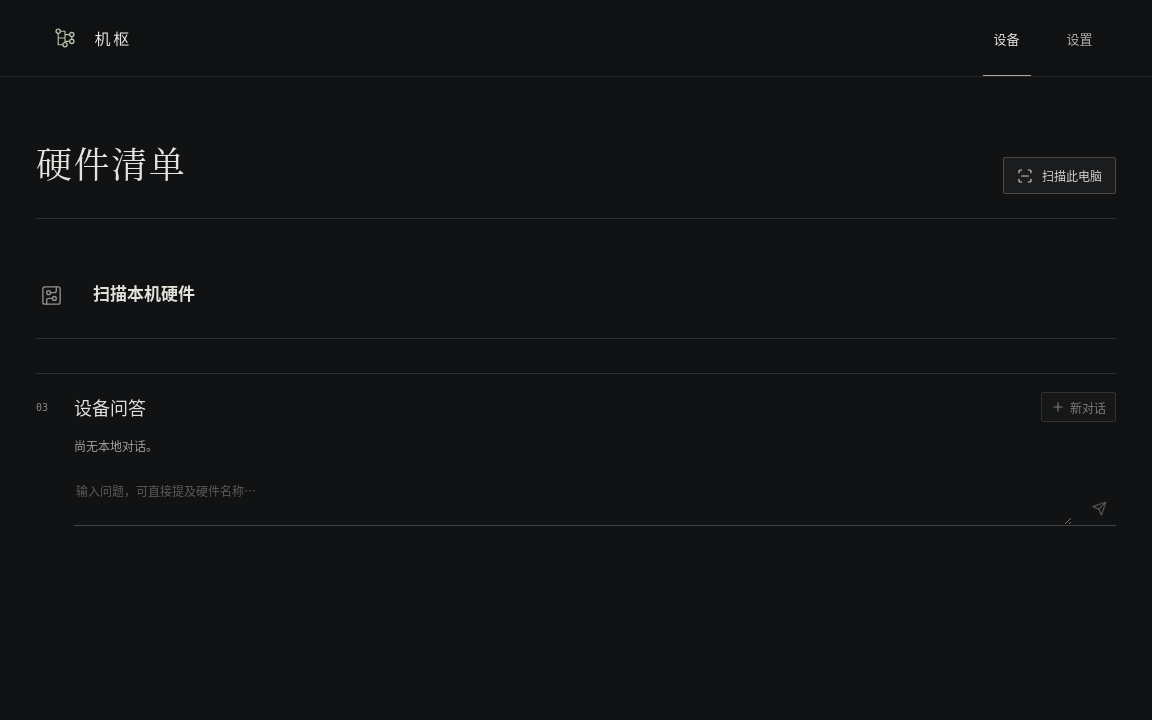
CoreScope application shell › keeps settings concise and removes redundant product, quota and about copy
What coordinates should you click on to do the following:
click the tab "设置"
I would click on:
 (1080, 38)
Its box is top-left (1056, 0), bottom-right (1104, 76).
(page scrolled)
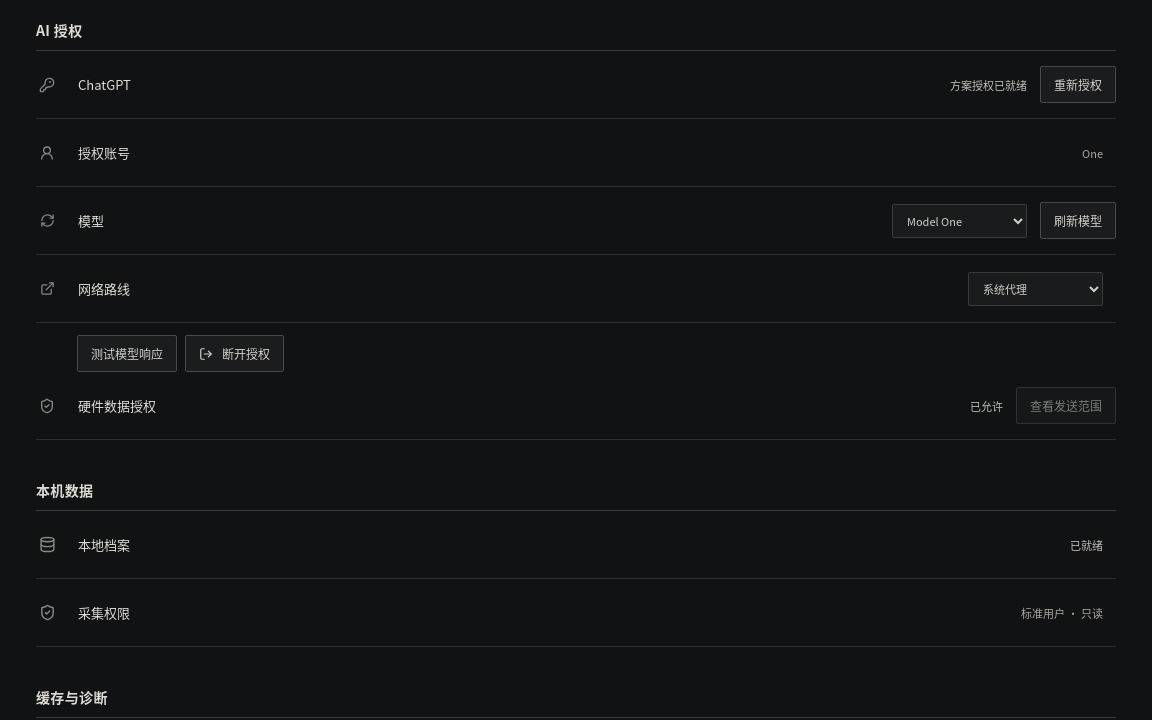
Now the element with class "settings-view" shows "硬件数据授权", box top-left (78, 396), bottom-right (156, 415)
Now the element with class "settings-view" shows "标准用户 · 只读", box top-left (1021, 604), bottom-right (1103, 620)
